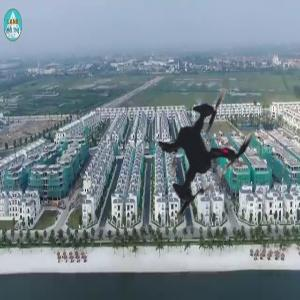drone: (106, 59, 299, 252)
